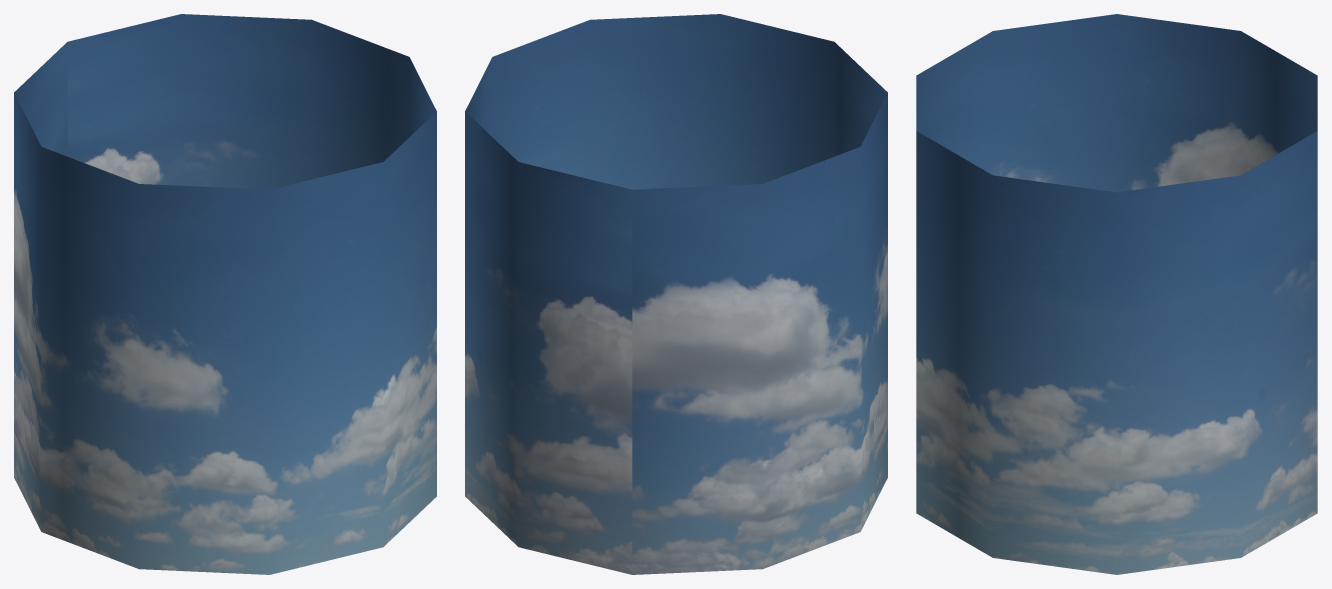
File: environment_cylinder.obj
The picture shows the model from 3 angles, left to right: view 1: azimuth 30°, elevation 25°; view 2: azimuth 150°, elevation 25°; view 3: azimuth 270°, elevation 25°; orthographic projection.
Visible parts, largest first — view 1: pCylinder1; view 2: pCylinder1; view 3: pCylinder1.
Boxes of the visible parts, left/top/right/bottom form: pCylinder1: left=14, top=14, right=436, bottom=574; pCylinder1: left=465, top=14, right=887, bottom=574; pCylinder1: left=916, top=14, right=1317, bottom=574.
Bounding box in the file's own units: 1600 × 1600 × 1522.
Materials: 1 (1 with a texture image).
